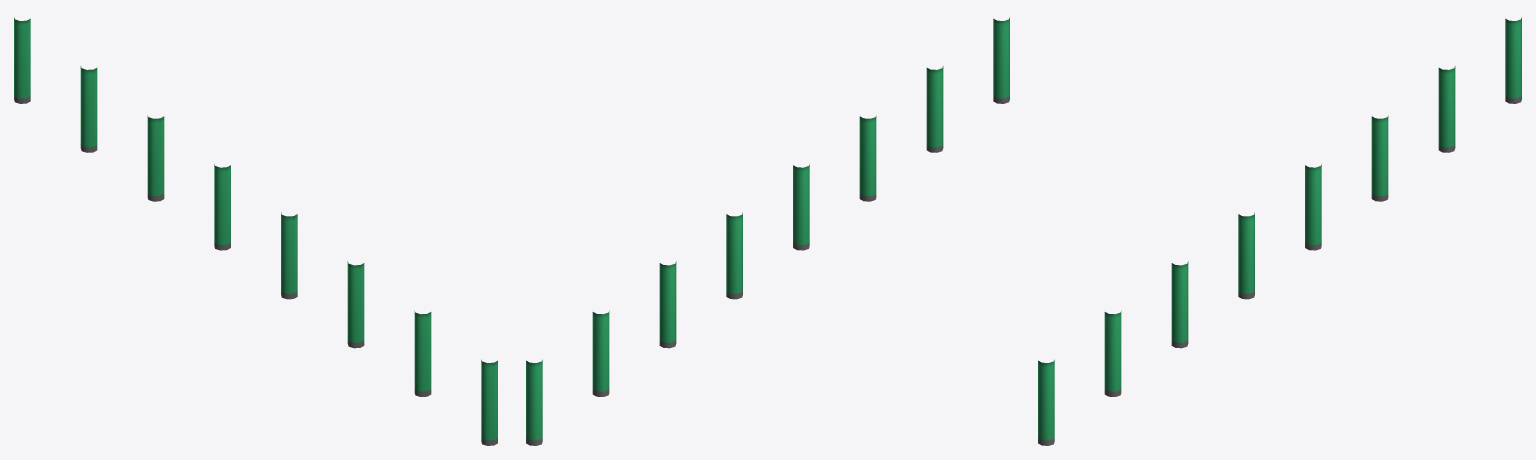
The model's file is AMB_HOME_HASHIRA.glb.
3 views of the same model, side by side, from view 1: azimuth 30°, elevation 25°; view 2: azimuth 150°, elevation 25°; view 3: azimuth 330°, elevation 25° (orthographic).
Parts seen in each view (by area): view 1: J02, J01, J05, J06, J04, J03, J07, J00; view 2: J05, J06, J02, J01, J04, J03, J07, J00; view 3: J02, J01, J05, J06, J04, J03, J07, J00.
Boxes of the visible parts, x1,y1,x2,y2 form: J02: (147, 115, 164, 201); J01: (80, 66, 97, 152); J05: (347, 261, 364, 348); J06: (414, 311, 431, 396); J04: (281, 212, 297, 299); J03: (214, 164, 230, 250); J07: (481, 359, 497, 445); J00: (14, 17, 30, 103); J05: (859, 115, 876, 201); J06: (926, 66, 943, 152); J02: (659, 261, 676, 348); J01: (592, 311, 609, 396); J04: (793, 164, 809, 250); J03: (726, 212, 742, 299); J07: (993, 17, 1009, 103); J00: (526, 359, 542, 445); J02: (1371, 115, 1388, 201); J01: (1438, 66, 1455, 152); J05: (1171, 261, 1188, 348); J06: (1104, 311, 1121, 396); J04: (1238, 212, 1254, 299); J03: (1305, 164, 1321, 250); J07: (1038, 359, 1054, 445); J00: (1505, 17, 1521, 103).
Size of the model in its own units: 1.62 by 8.57 by 89.12.
16 materials, 16 textured.
